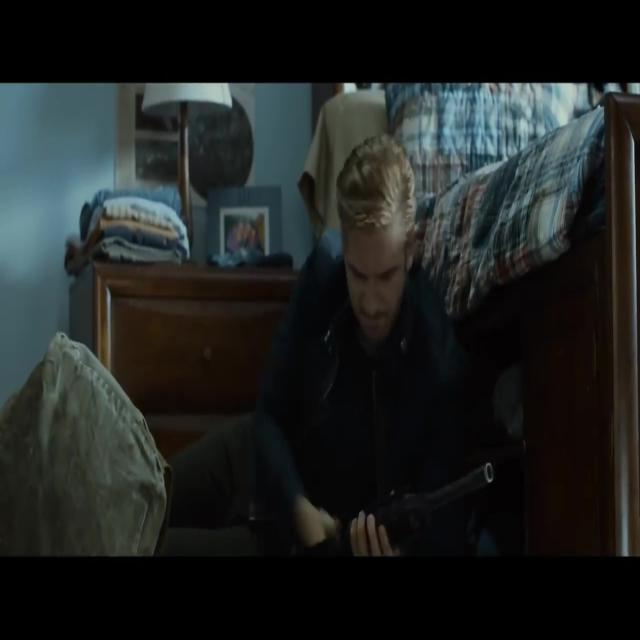Weapon: (296, 361, 518, 556)
